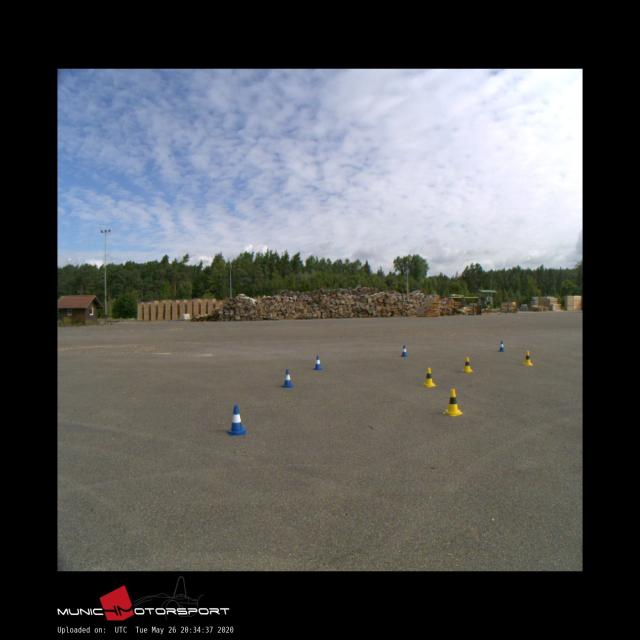blue_cone: (228, 405, 245, 435), (282, 369, 292, 387), (314, 355, 322, 369), (400, 344, 407, 356), (499, 341, 504, 352)
yellow_cone: (442, 388, 463, 416), (422, 367, 436, 387), (461, 356, 473, 372), (522, 350, 532, 365)
